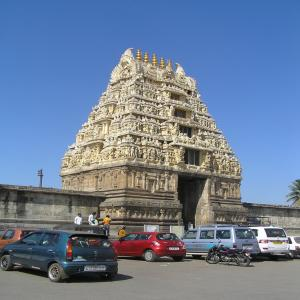Vehicle-registration-plate: (85, 264, 109, 271), (171, 248, 182, 251)
